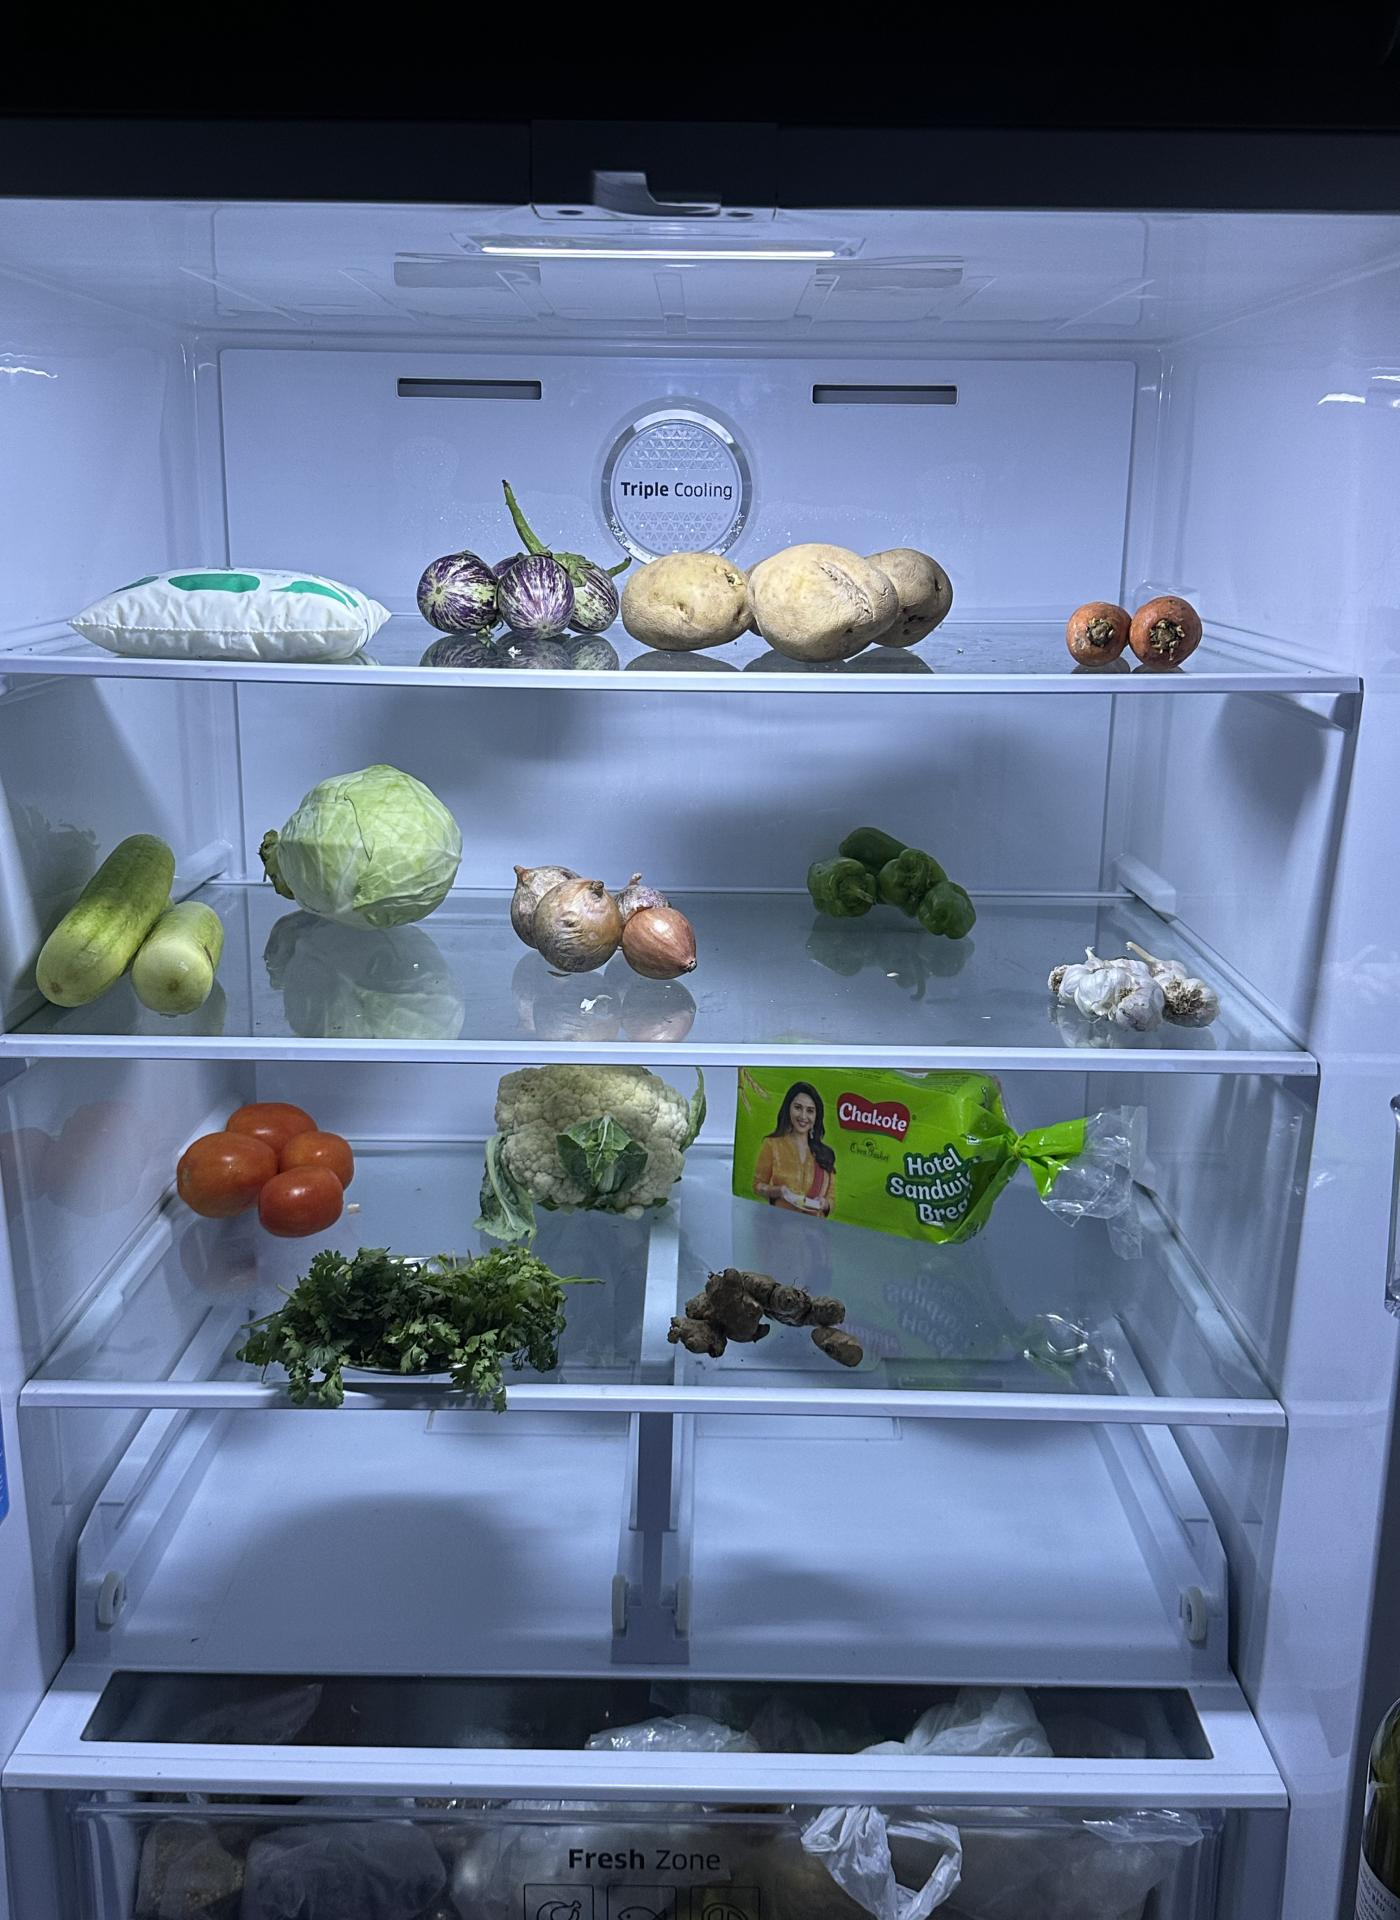bread: (723, 1048, 1017, 1239)
brinjal: (412, 550, 619, 644)
cabbage: (258, 768, 462, 935)
capsicum: (802, 821, 977, 944)
carrots: (1057, 581, 1208, 675)
cauliflower: (486, 1055, 708, 1209)
coriander: (243, 1240, 567, 1395)
cucumber: (25, 833, 231, 1018)
garlic: (1050, 939, 1223, 1038)
ginger: (660, 1267, 868, 1376)
milk: (63, 560, 383, 666)
onion: (513, 857, 701, 987)
potato: (623, 546, 953, 651)
tomato: (170, 1091, 355, 1230)
